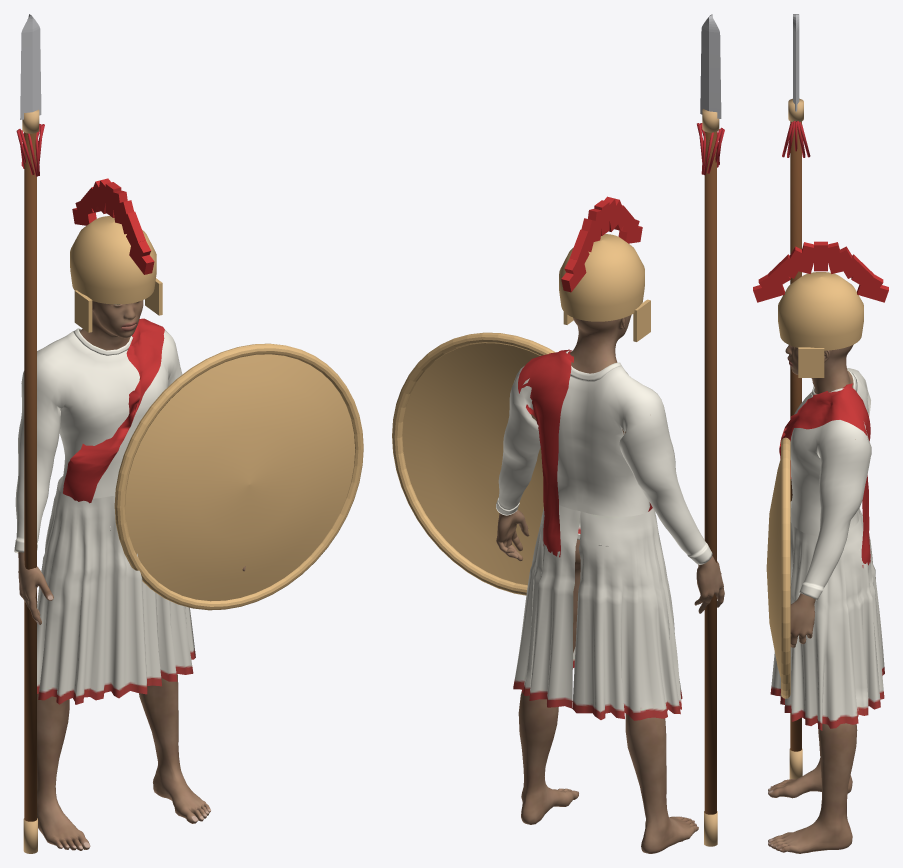
The model's file is greek_white.glb.
3 renders of one model, left to right at view 1: azimuth 30°, elevation 25°; view 2: azimuth 150°, elevation 25°; view 3: azimuth 270°, elevation 25°, orthographic. The views are drawn at different scales.
Parts seen in each view (by area): view 1: A_greek_white; view 2: A_greek_white; view 3: A_greek_white.
Boxes of the visible parts, x1,y1,x2,y2 form: A_greek_white: [14, 14, 363, 853]; A_greek_white: [392, 14, 724, 853]; A_greek_white: [753, 14, 888, 853].
Size of the model in its own units: 1.12 by 2.62 by 0.4226.
Materials: 16 (8 with a texture image).
